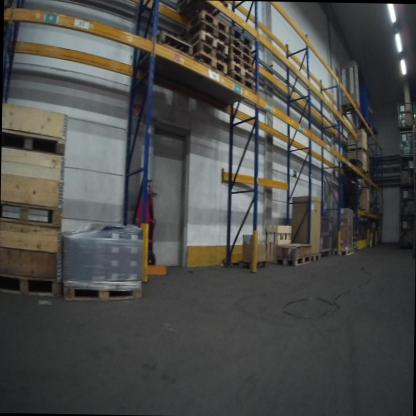pallet: (137, 30, 194, 87), (1, 193, 64, 232), (61, 278, 145, 306), (5, 124, 68, 154), (0, 274, 62, 304), (213, 72, 256, 114), (176, 1, 232, 26), (193, 52, 227, 84), (183, 22, 229, 45), (184, 11, 228, 34), (191, 32, 228, 57), (191, 45, 228, 64), (227, 51, 254, 75), (227, 44, 254, 65), (228, 27, 253, 47), (226, 63, 255, 80), (275, 253, 309, 267), (228, 37, 252, 56), (349, 163, 365, 179), (304, 253, 320, 265), (339, 249, 353, 258), (351, 247, 357, 255), (351, 241, 358, 247), (350, 235, 356, 241)
stillage: (317, 213, 334, 258), (397, 101, 413, 133), (399, 131, 414, 155), (412, 172, 416, 204), (410, 153, 416, 169), (413, 127, 416, 151), (413, 103, 416, 125)
